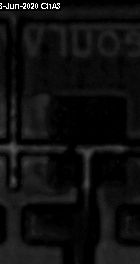led: (49, 96, 128, 186)
